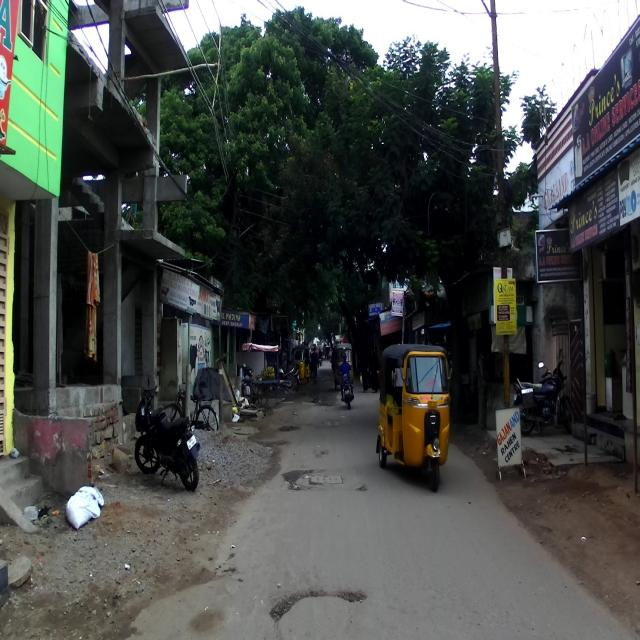autorickshaw: (375, 343, 453, 491)
motorcycle: (134, 372, 200, 490), (512, 348, 575, 437), (338, 369, 354, 408)
